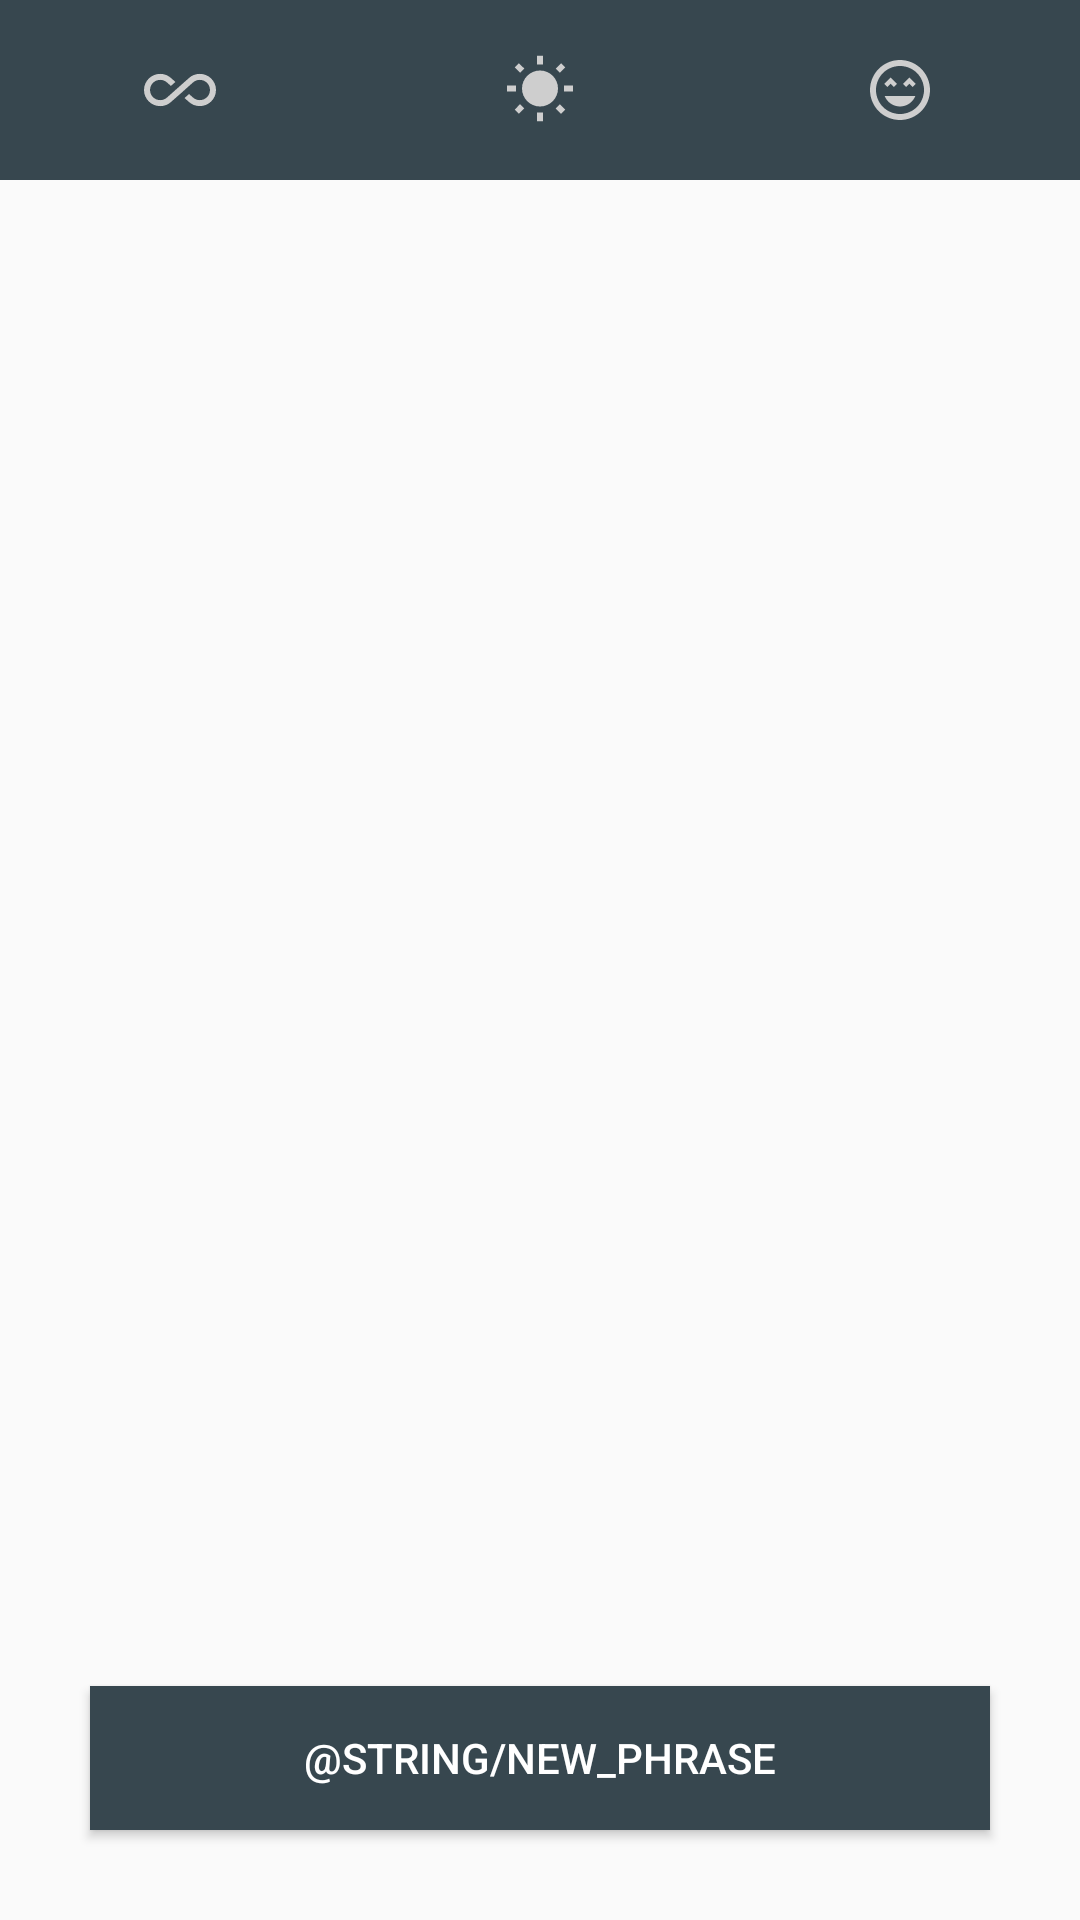

Locate icon controls on the screen. Image size 1080w x 1920h, boxes as (x1, y1, x2, y2).
all inclusive: (144, 74, 216, 106)
happy: (870, 60, 930, 120)
sun: (507, 55, 573, 122)
